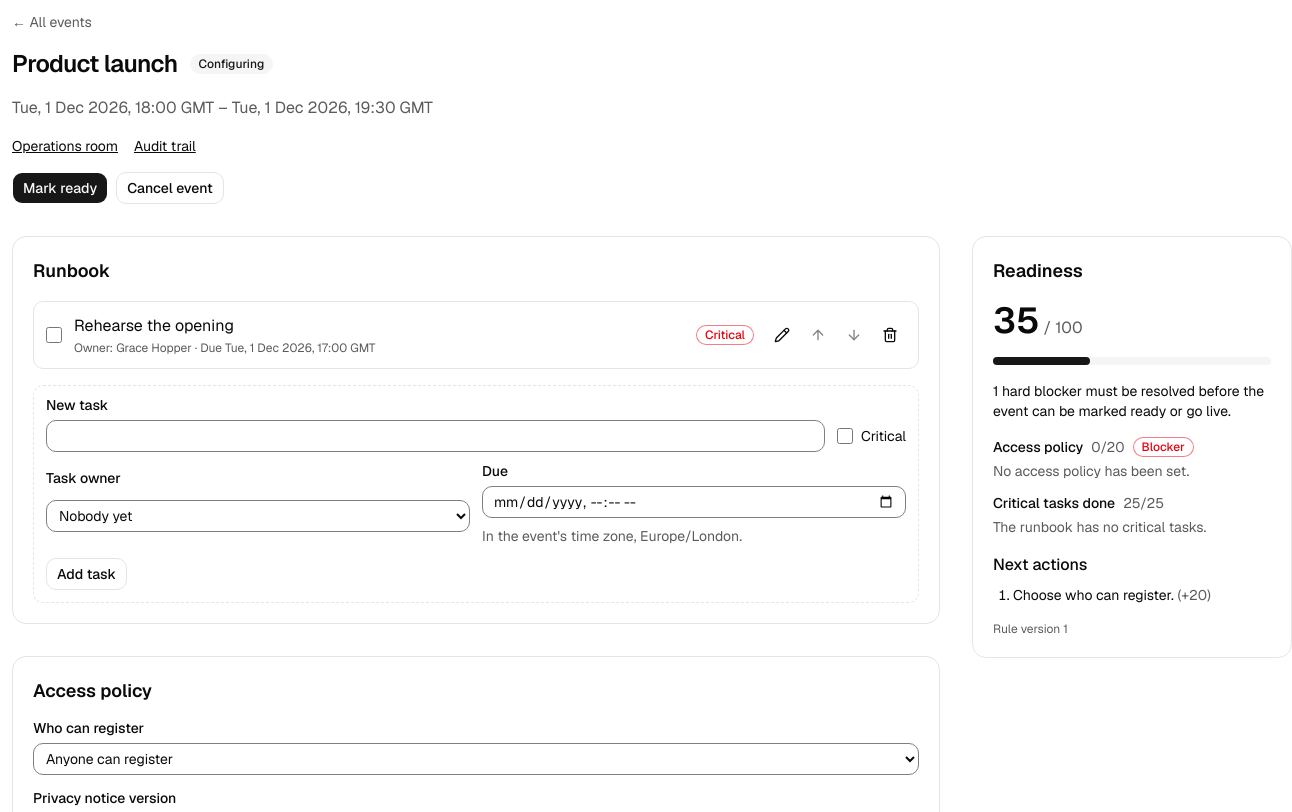
Test: LaunchControlPage › task owners and due times (FR-LC-1) › shows a task's owner and due time, and changes only what was edited
Later steps or results of the test are not shown.
Expected: the text "Owner: Grace Hopper · Due Tue, 1 Dec 2026, 17:00 GMT" is shown, [74,340,375,356]
What coordinates should you click on to do the following:
click the button named "Edit Rehearse the opening"
I would click on:
 (782, 335)
Its box is [766,319,798,351].
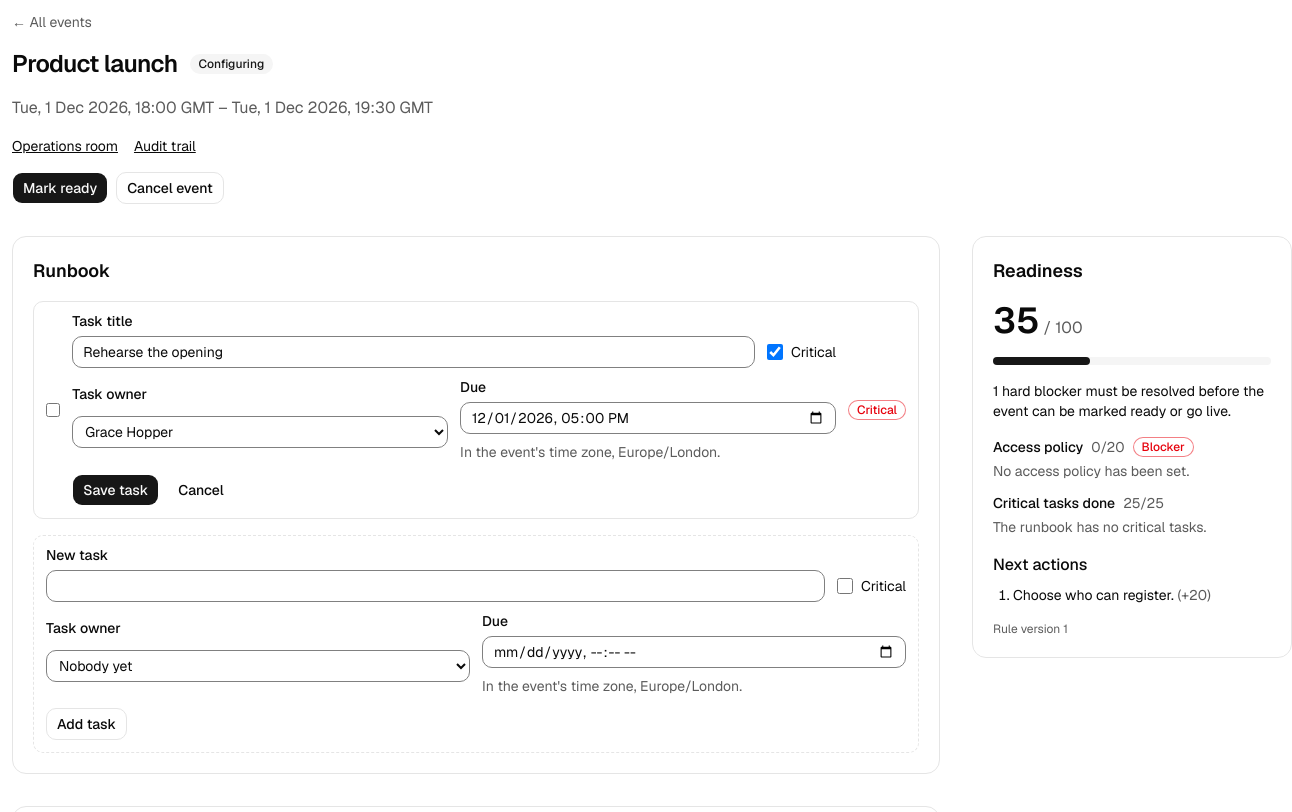
Now the 1st field labelled "Due" holds "2026-12-01T17:00", box [460,402,836,434]
